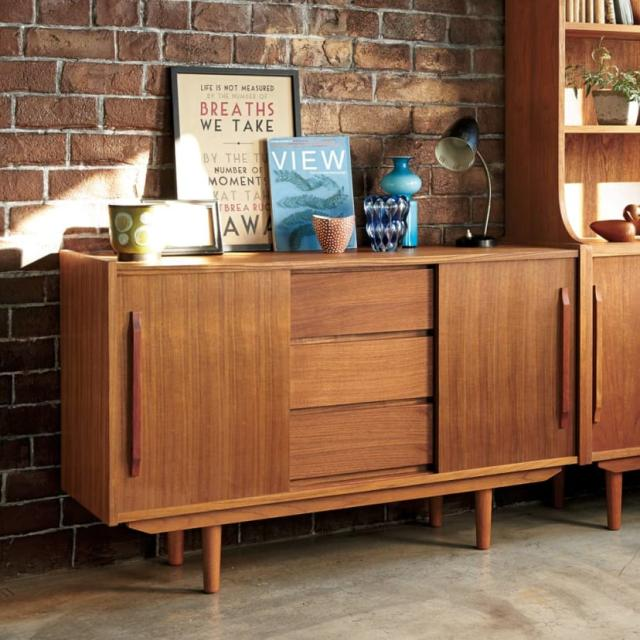vintage shelf: (58, 243, 588, 568), (505, 2, 640, 524)
